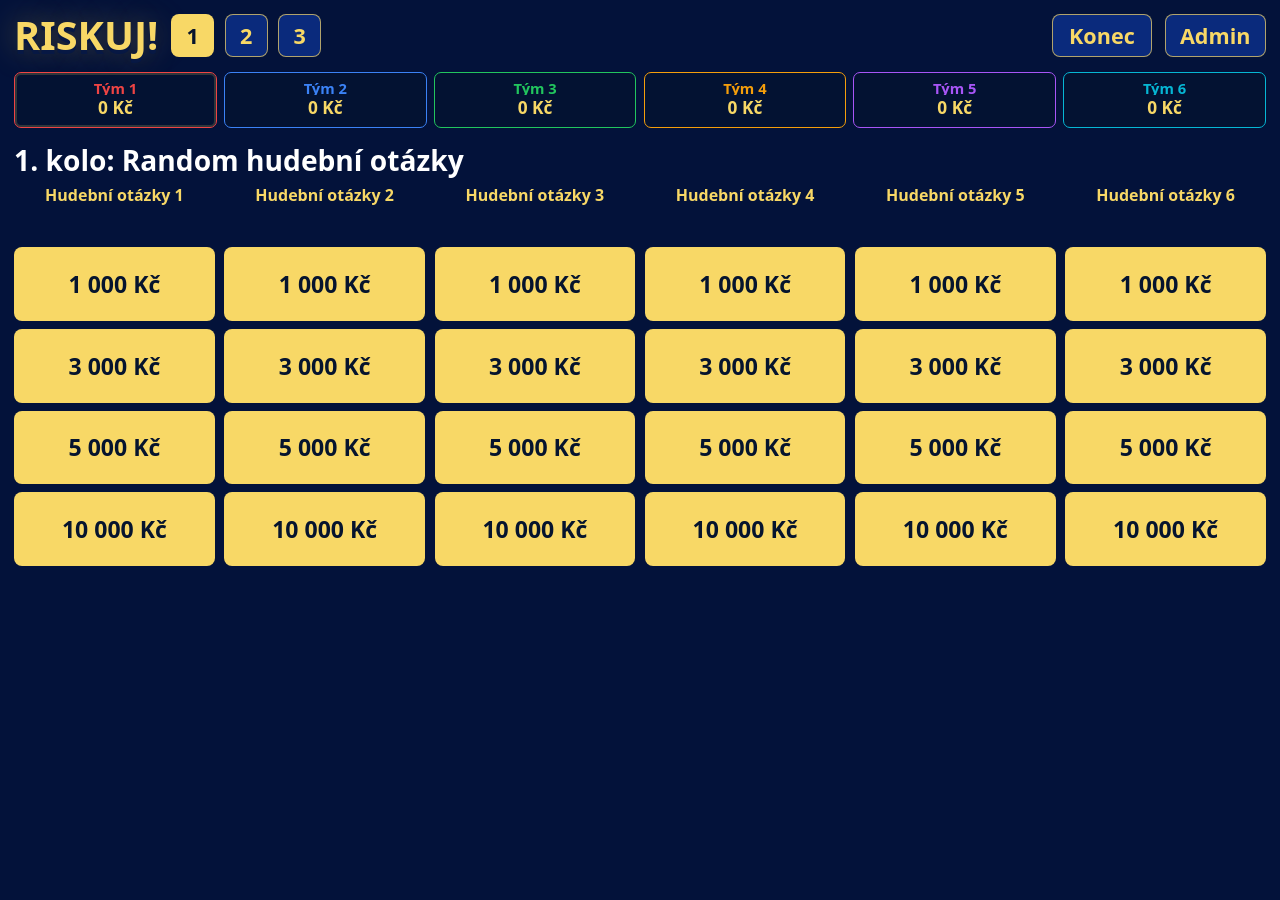
Test case: PlayPage › Enter po kliknutí na focused dlaždici zůstane na otázce a nevybere dlaždici znovu
Expected: the heading "Riskuj!" is shown, [14,17,158,54]
Click the button with aria-label "Hudební otázky 1 za 1 000 Kč": (114,284) [14,247,215,321]
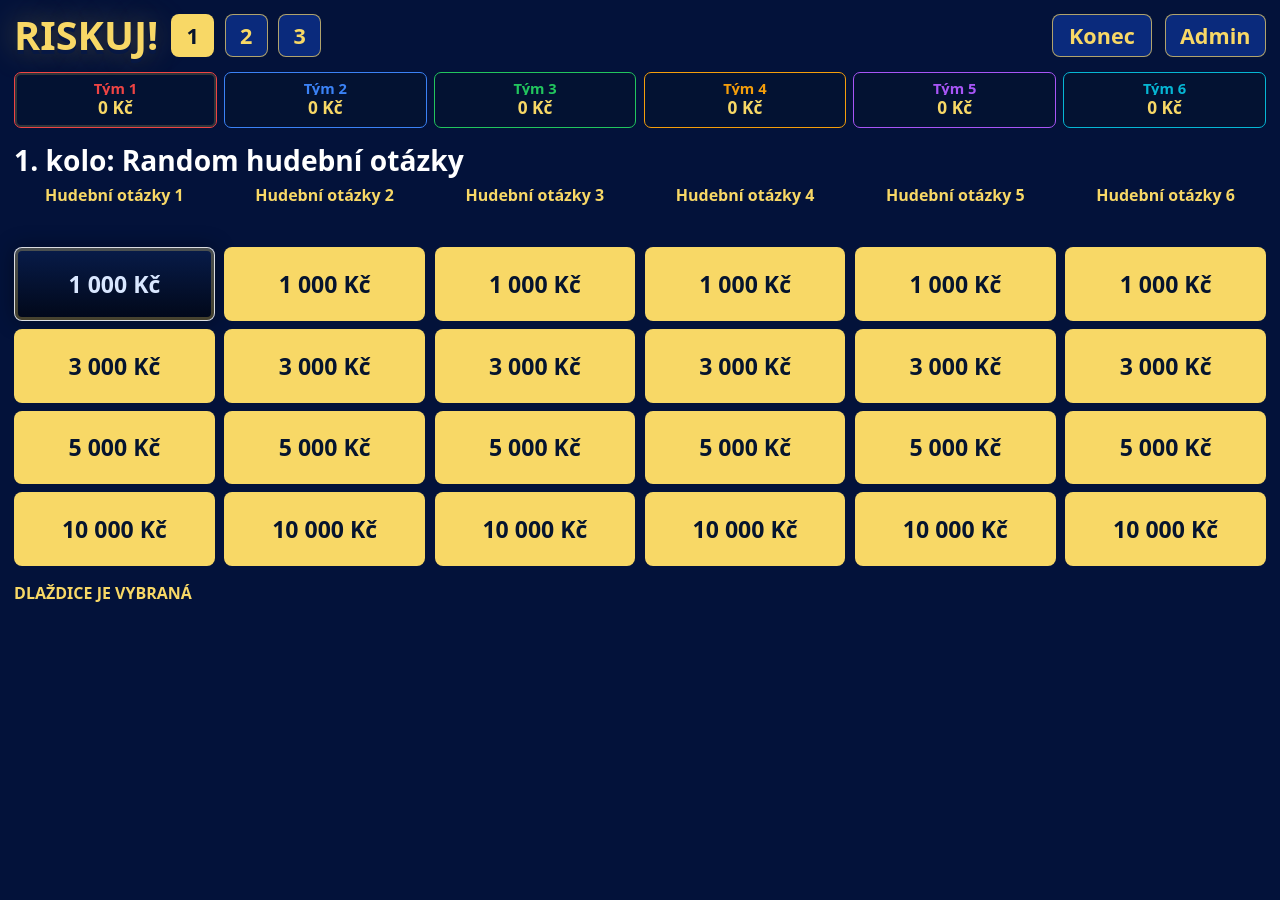
Result: the text "Dlaždice je vybraná" is shown at [14,582,192,604]
Press Enter in the button with aria-label "Hudební otázky 1 za 1 000 Kč", box [14,247,215,321]
Click the button with aria-label "Hudební otázky 1 za 1 000 Kč": (114,284) [14,247,215,321]
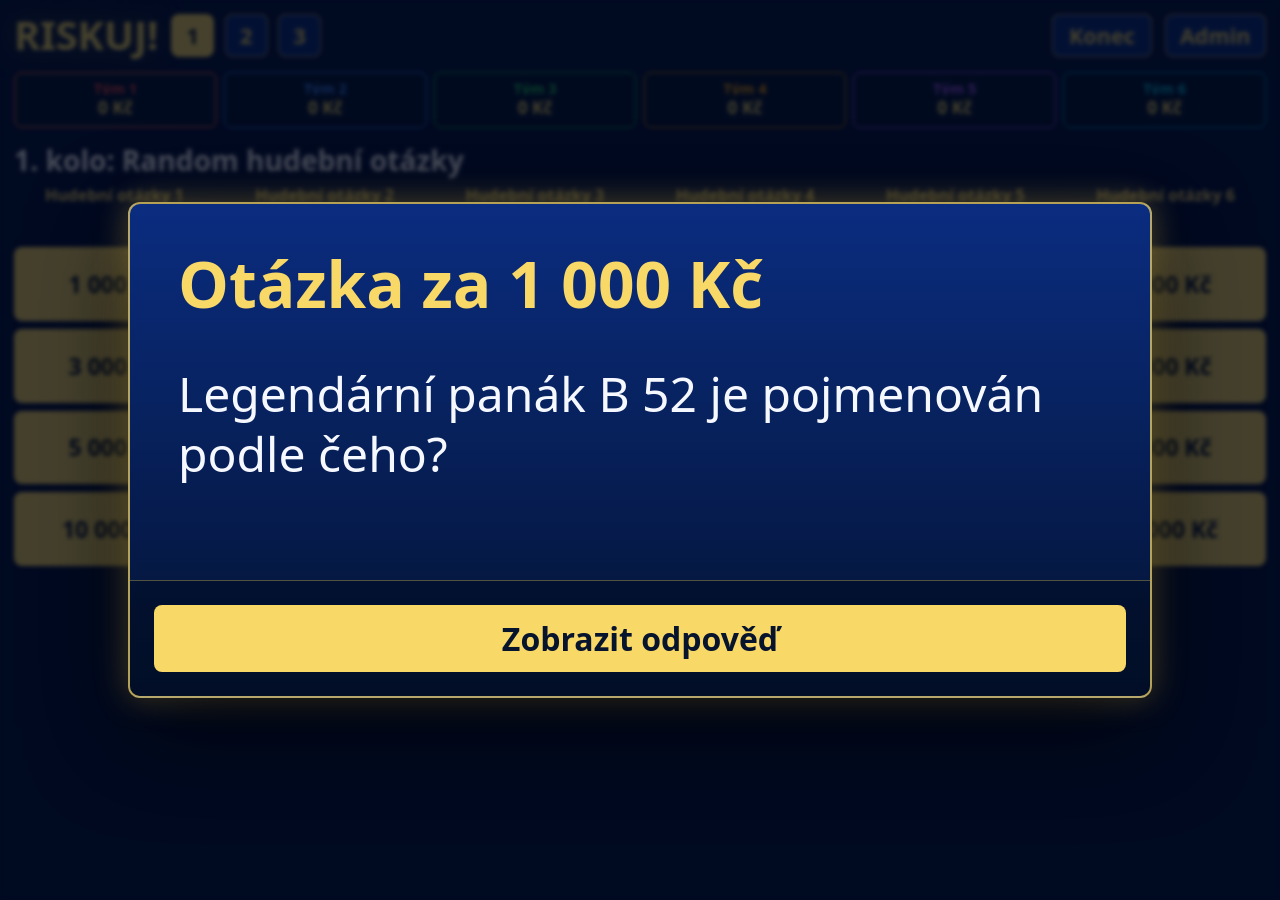
Result: the text "Legendární panák B 52 je pojmenován podle čeho?" is shown at [178,364,1102,484]
Result: the text "Dlaždice je vybraná" is gone
